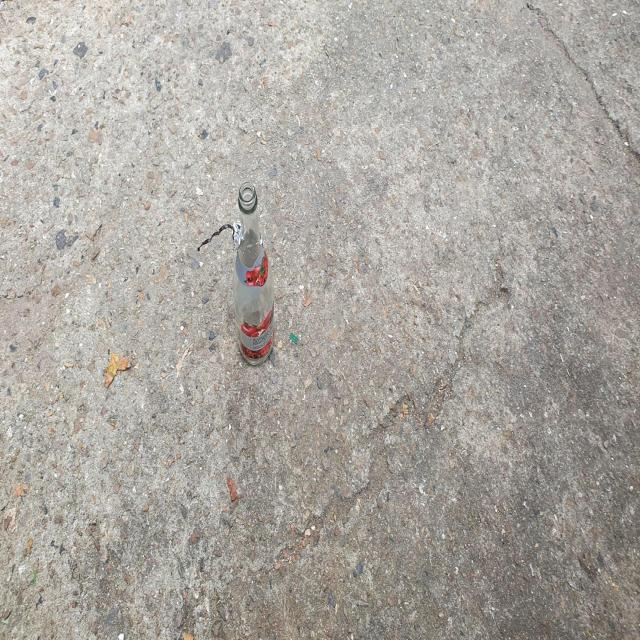glass: (233, 181, 274, 364)
